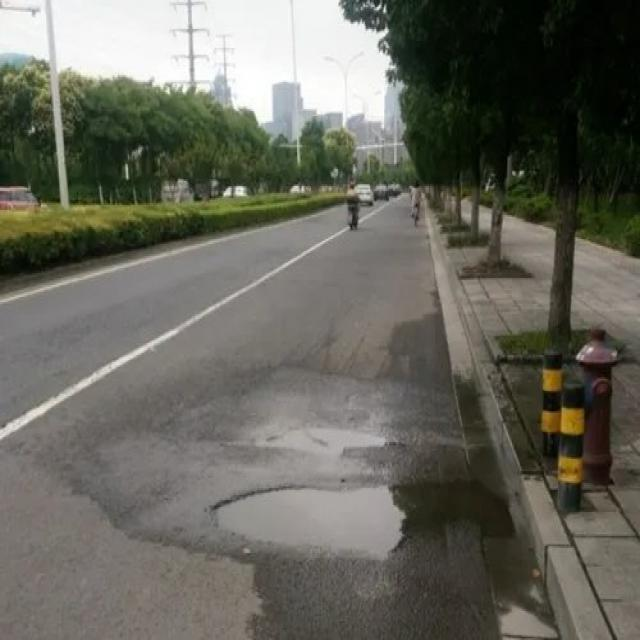Pothole: (207, 479, 493, 574)
